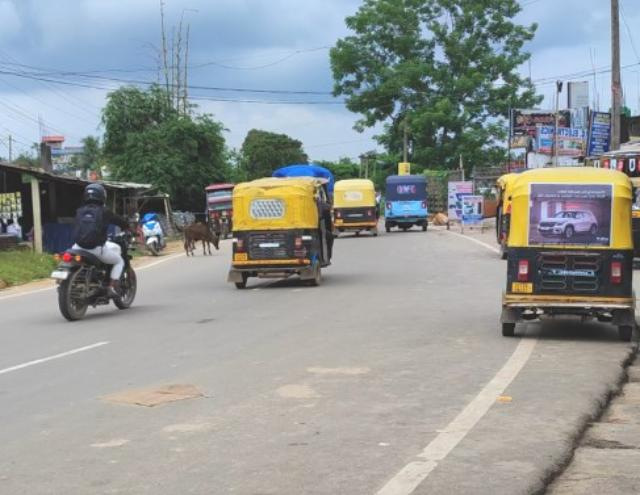licensePlate: (47, 271, 69, 280)
motorcycle: (48, 185, 138, 322)
withHelmet: (81, 187, 105, 207)
